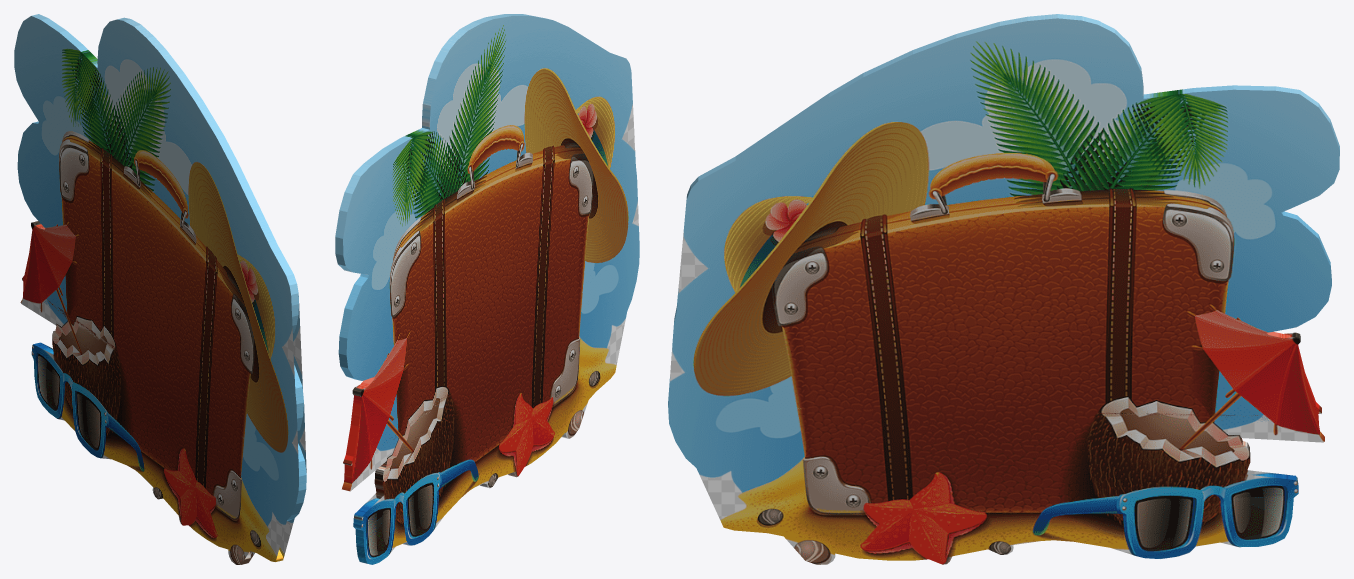
Rendered from Holidays icon.fbx.
The picture shows the model from 3 angles, left to right: view 1: azimuth 30°, elevation 25°; view 2: azimuth 150°, elevation 25°; view 3: azimuth 270°, elevation 25°; orthographic projection. The views are drawn at different scales.
Visible parts, largest first — view 1: Plane.005; view 2: Plane.005; view 3: Plane.005.
Boxes of the visible parts, x1=… form: Plane.005: x1=14, y1=14, x2=306, y2=564; Plane.005: x1=335, y1=14, x2=639, y2=564; Plane.005: x1=668, y1=14, x2=1339, y2=564.
Bounding box in the file's own units: 0.7711 × 45.01 × 50.13.
1 material, 1 textured.
